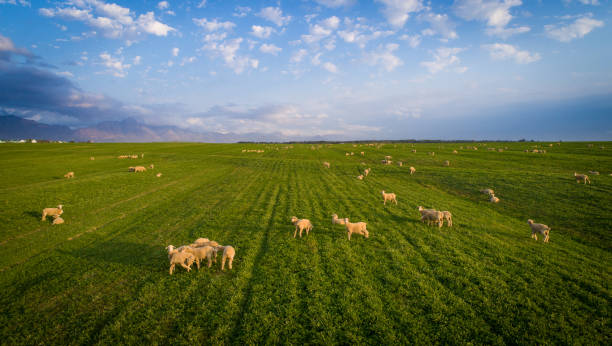sheep: (285, 214, 313, 241), (339, 217, 370, 241), (211, 244, 234, 274), (529, 220, 557, 244), (165, 249, 191, 274), (183, 248, 213, 267), (433, 210, 459, 231), (185, 240, 216, 256), (418, 205, 441, 226), (480, 187, 504, 206), (39, 202, 65, 217), (381, 189, 402, 206), (124, 162, 148, 176), (576, 171, 593, 187), (126, 150, 145, 162), (49, 209, 64, 222), (60, 170, 79, 180), (407, 164, 419, 178), (322, 160, 336, 172), (361, 166, 375, 176), (154, 170, 167, 180), (352, 171, 365, 181), (384, 154, 395, 164), (442, 159, 451, 166)
